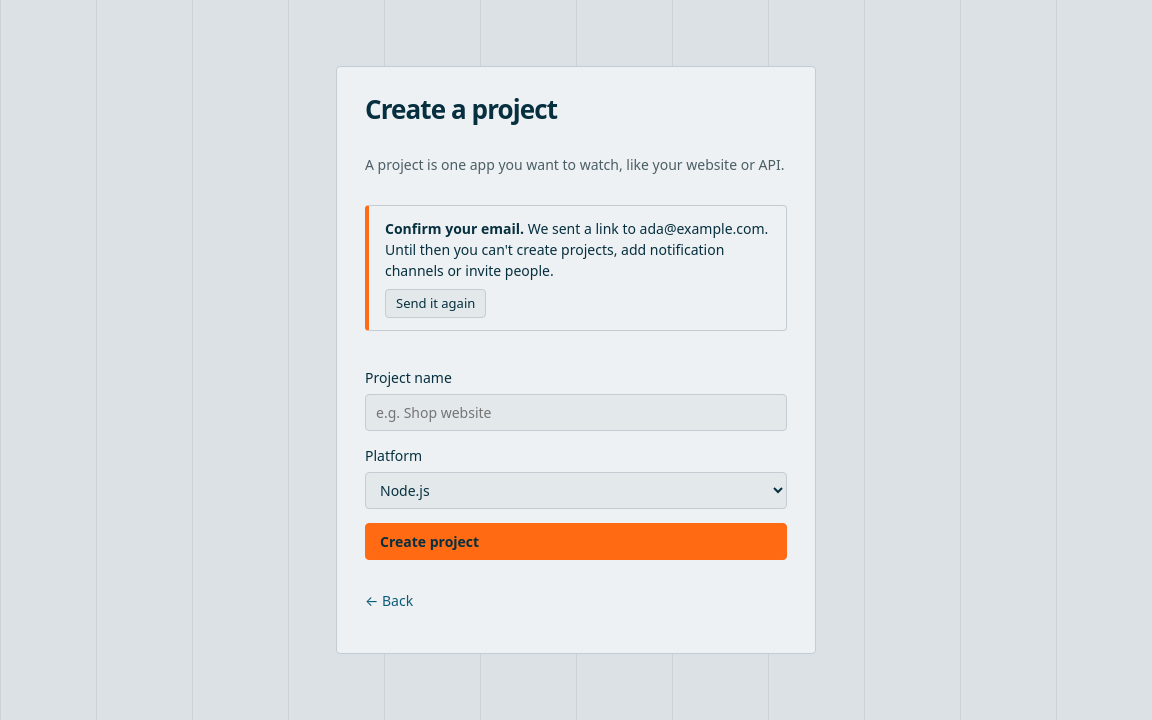
Test: account pages › asks unverified users to confirm their email
Expected: the text "Confirm your email." is shown, [385,218,524,238]
Click the button "Send it again".
click(436, 303)  # box [385,288,486,318]
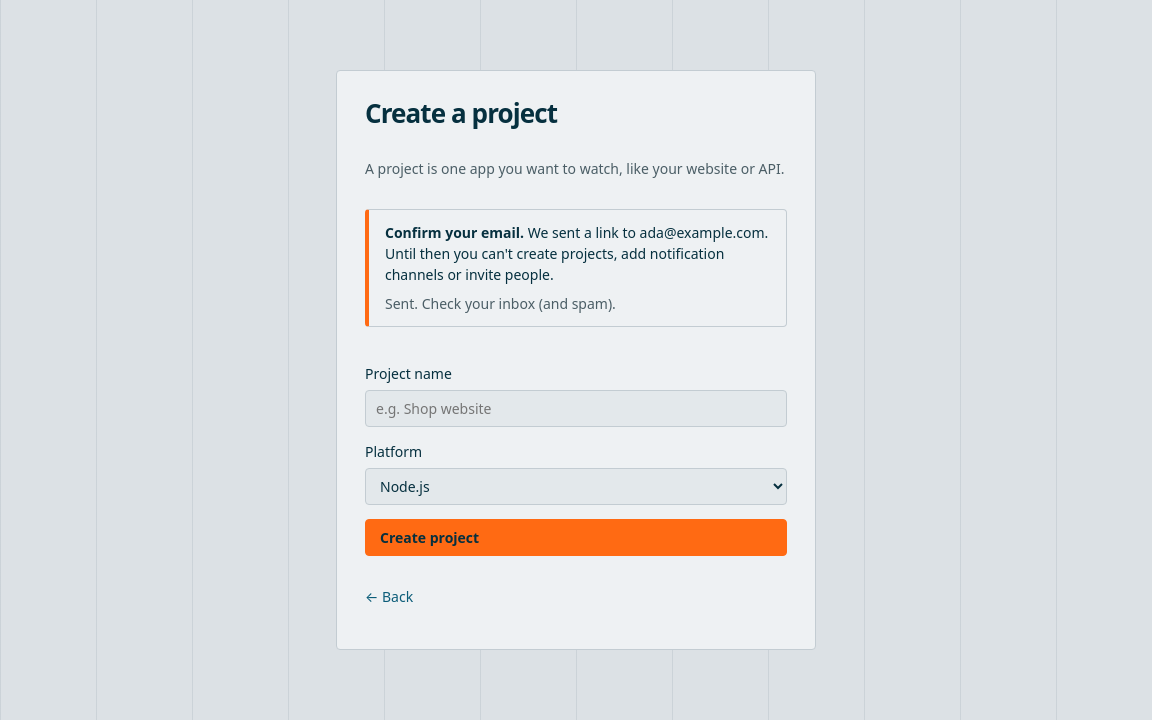
Now the text "Sent. Check your inbox (and spam)." is shown, box [385,293,616,314]
